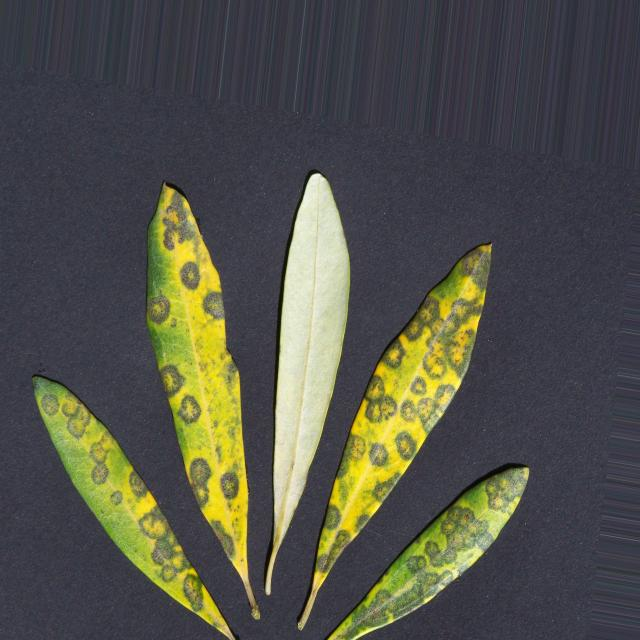Healthy: (273, 173, 350, 552)
Peacock Eye: (305, 244, 491, 611), (32, 375, 236, 640), (146, 182, 248, 580), (329, 466, 529, 640)
